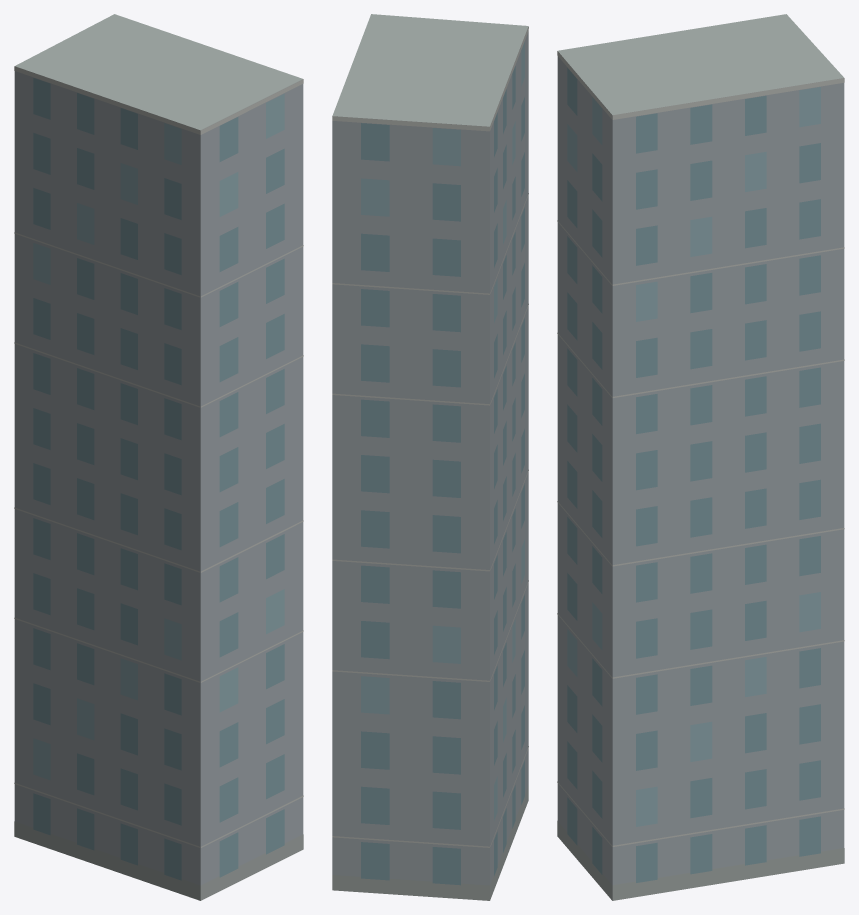
The model's file is survey-upis-32804568.glb.
The picture shows the model from 3 angles, left to right: view 1: azimuth 30°, elevation 25°; view 2: azimuth 150°, elevation 25°; view 3: azimuth 270°, elevation 25°; orthographic projection.
Parts seen in each view (by area): view 1: survey-upis-32804568.tmp; view 2: survey-upis-32804568.tmp; view 3: survey-upis-32804568.tmp.
Part boxes in pixels (bbox=[...]): survey-upis-32804568.tmp: bbox=[14, 14, 303, 900]; survey-upis-32804568.tmp: bbox=[332, 14, 528, 900]; survey-upis-32804568.tmp: bbox=[557, 14, 844, 900].
Bounding box in the file's own units: 11.07 × 39.95 × 13.25.
